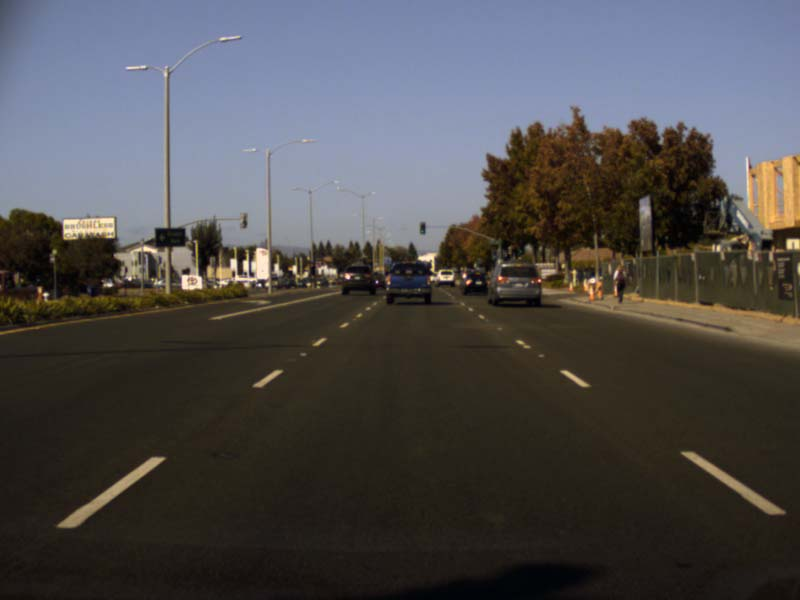Green: (419, 221, 425, 235), (518, 247, 524, 253)
